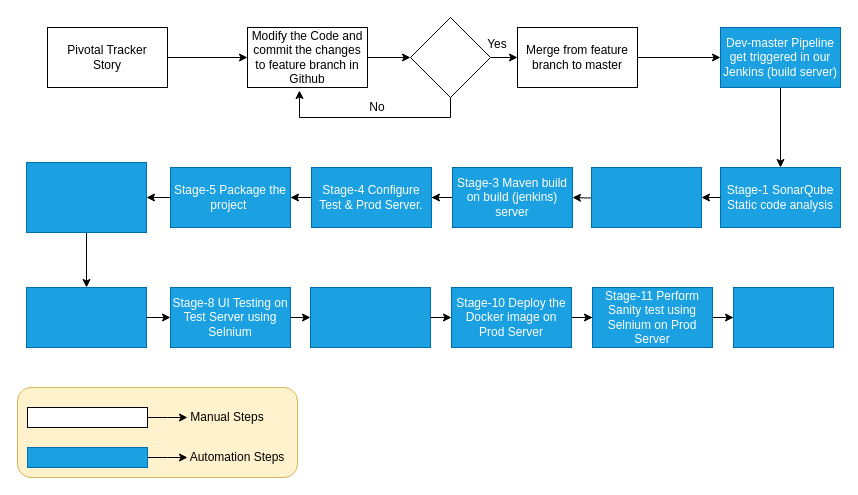
This 858x495 diagram has some shape labels left out. The shapes that lost their labels are listed below. From the top down, each one's box as (x1, y1, x2, y2) in pixels, then its label:
(410, 16, 490, 98): Approval
(26, 162, 146, 232): Stage-6 Store Artifacts in Jfrog Artiffactory
(590, 166, 702, 228): Stage-2 Initalize Docker on Test & Prod Servers
(26, 286, 146, 348): Stage-7 Deploy to docker image from dockerhub to Test server
(310, 286, 430, 348): Stage-9 Performance Testing by Blazemeter
(732, 286, 834, 348): Stage-12 Monitor
